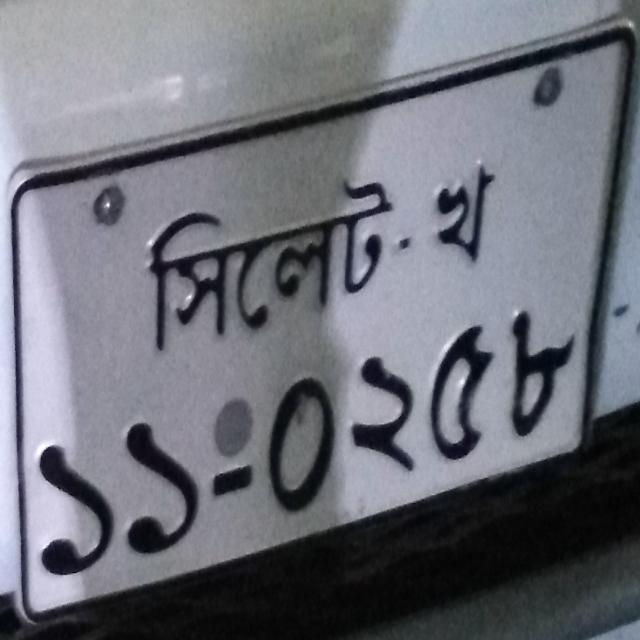numberplate: (1, 4, 638, 633)
